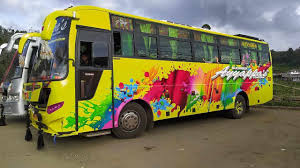bus: (19, 4, 273, 140), (1, 32, 47, 119)
